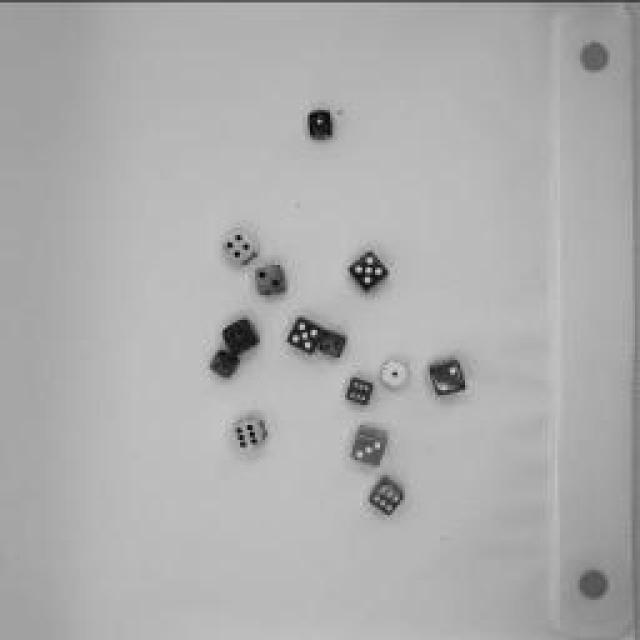dice_1: (215, 314, 265, 356), (302, 100, 342, 148), (378, 356, 412, 392)
dice_2: (425, 354, 473, 398), (254, 260, 291, 300), (210, 348, 248, 378), (322, 328, 352, 360)
dice_3: (352, 425, 396, 470)
dice_4: (219, 221, 261, 269)
dice_5: (345, 242, 395, 296), (282, 314, 322, 358)
dice_6: (364, 474, 411, 518), (228, 415, 272, 455), (341, 369, 379, 409)
